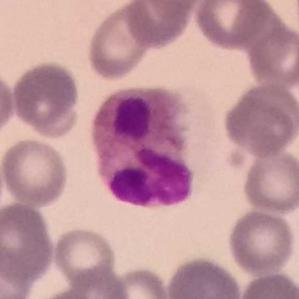Neutrophil: (90, 83, 204, 210)
RBC: (220, 80, 299, 158), (9, 58, 83, 140), (85, 0, 155, 83), (0, 135, 71, 208), (226, 207, 297, 277), (0, 200, 56, 284), (191, 0, 272, 52), (51, 225, 118, 287), (121, 0, 199, 51), (240, 148, 299, 215), (245, 23, 299, 91), (164, 254, 244, 299), (57, 264, 131, 299), (104, 265, 175, 299), (236, 270, 298, 299), (0, 254, 33, 299), (135, 0, 209, 18), (0, 66, 17, 142)
